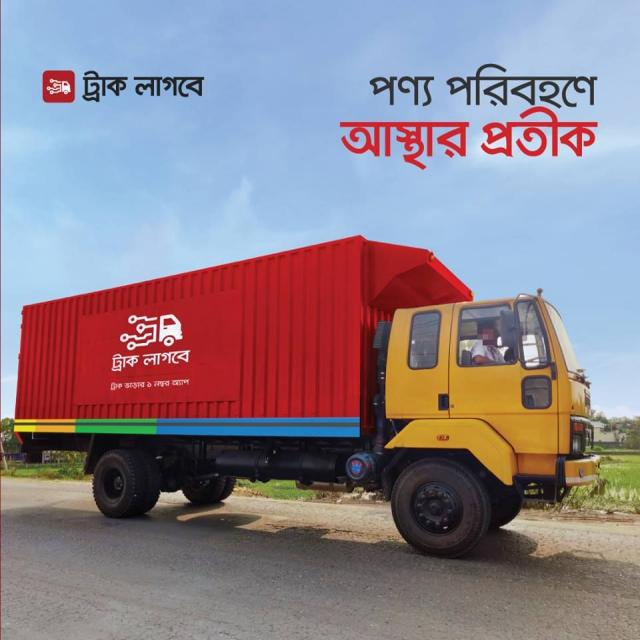truck: (0, 244, 601, 571)
